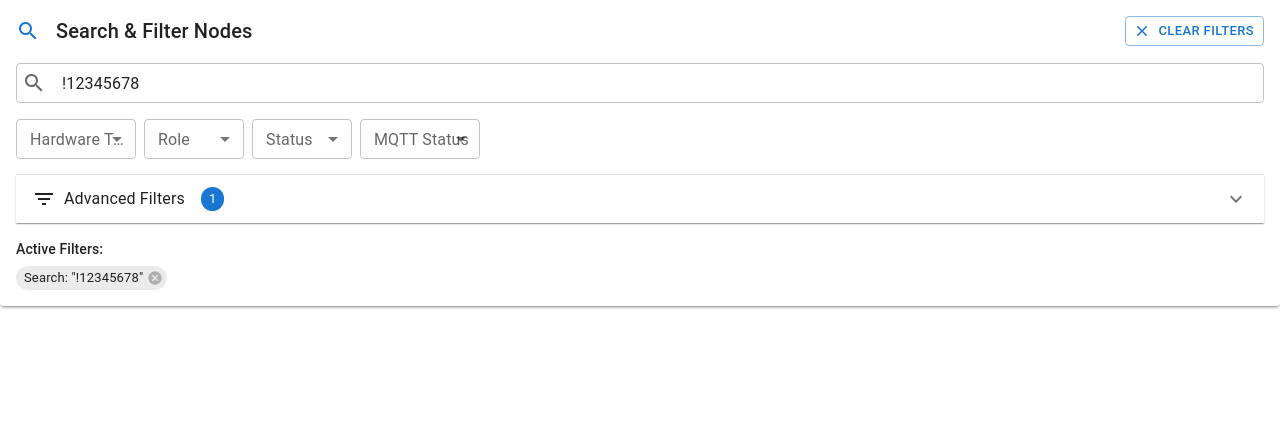
it: Search and Filtering Component › Search Functionality › should provide autocomplete suggestions
The width and height of the screenshot is (1280, 442).
Replace the text in the 1st dropdown with placeholder "Search nodes by name, ID, or hex ID..." with "NODE": (640, 83) [54, 69, 1225, 97]
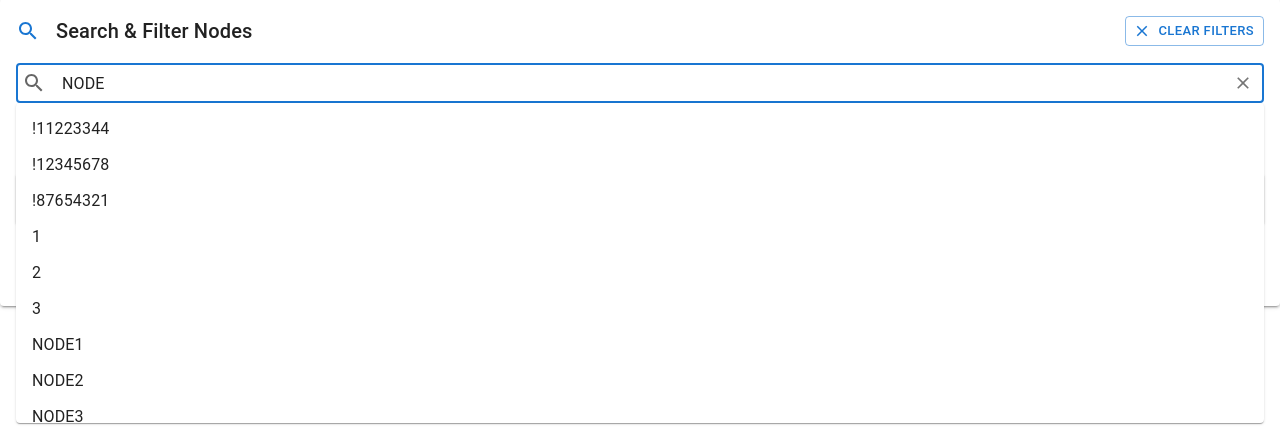
Check: the option "NODE1" is shown, box [32, 335, 84, 354]
Check: the option "NODE2" is shown, box [32, 371, 84, 390]
Check: the option "NODE3" is shown, box [32, 407, 84, 423]
